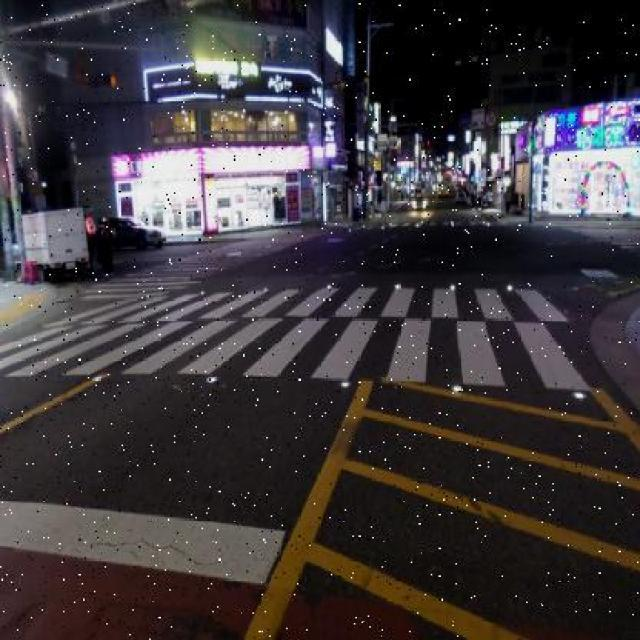crosswalk: (3, 319, 590, 390), (52, 284, 567, 322), (97, 229, 329, 291)
